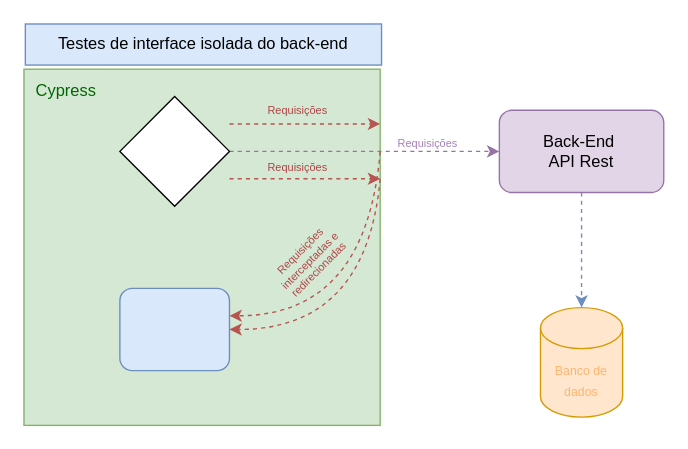
Some shapes in this 688 by 449 pixel diagram are drawn without their labels. Each missing label, with the centre of its shape:
"Front-End" goes at [174,150].
"Server Fake (Mocar)" goes at [174,329].
